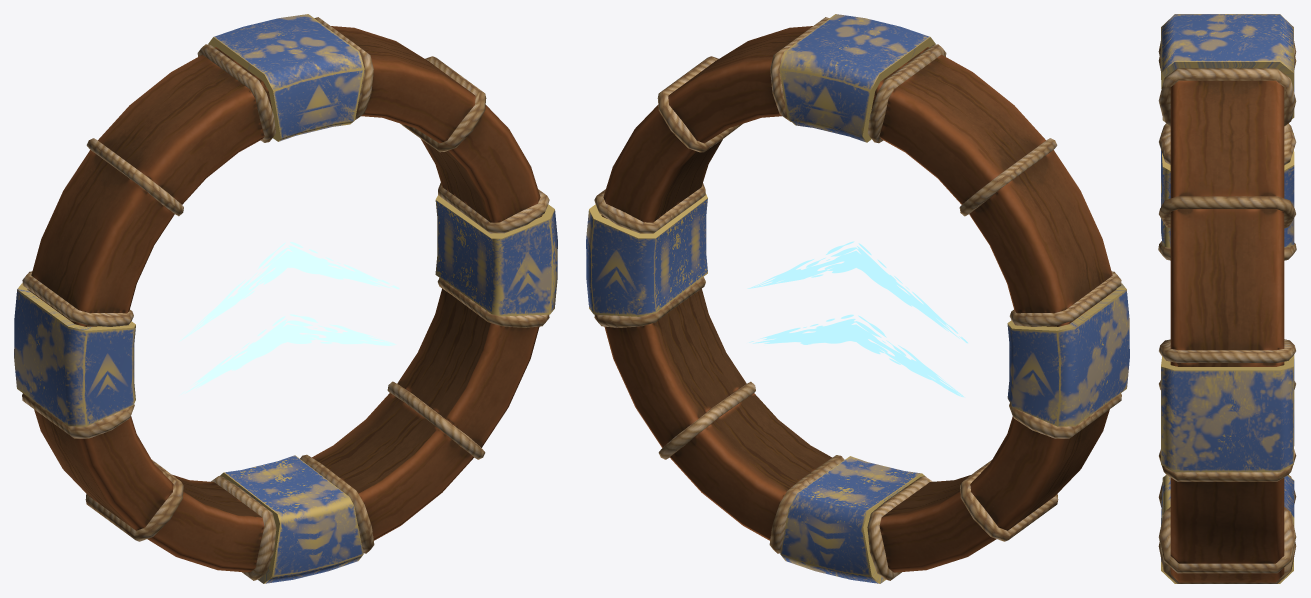
File: boostRing_desktop.gltf
3 renders of one model, left to right at view 1: azimuth 30°, elevation 25°; view 2: azimuth 150°, elevation 25°; view 3: azimuth 270°, elevation 25°, orthographic. The views are drawn at different scales.
Visible parts, largest first — view 1: Cylinder.884, Cylinder.008, ropes.001, Cylinder.001; view 2: Cylinder.884, Cylinder.008, ropes.001, Cylinder.001; view 3: Cylinder.884, Cylinder.008, ropes.001.
Part boxes in pixels (bbox=[...]): Cylinder.884: bbox=[27, 26, 542, 572]; Cylinder.008: bbox=[14, 14, 557, 583]; ropes.001: bbox=[22, 17, 549, 580]; Cylinder.001: bbox=[179, 242, 399, 395]; Cylinder.884: bbox=[601, 26, 1116, 572]; Cylinder.008: bbox=[586, 14, 1129, 583]; ropes.001: bbox=[594, 17, 1121, 580]; Cylinder.001: bbox=[747, 241, 968, 397]; Cylinder.884: bbox=[1170, 80, 1284, 582]; Cylinder.008: bbox=[1161, 14, 1294, 583]; ropes.001: bbox=[1158, 41, 1296, 583].
Bounding box in the file's own units: 4.11 × 4.11 × 0.976.
2 materials, 2 textured.
